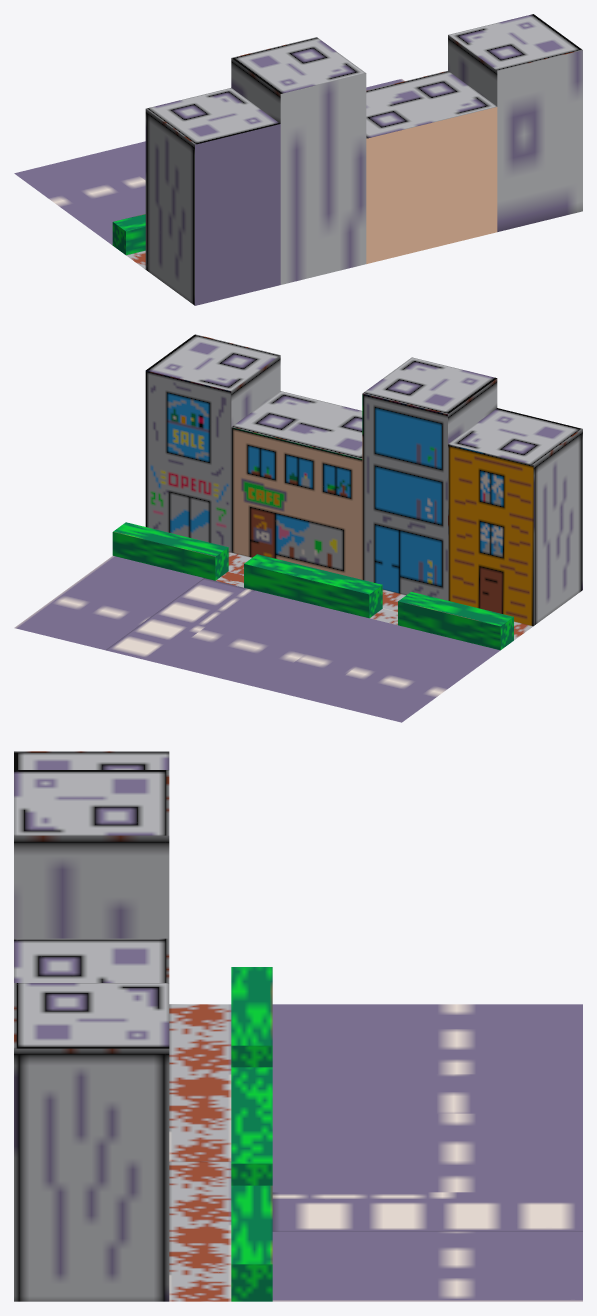
The model's file is city1.obj.
The picture shows the model from 3 angles, top to bottom: view 1: azimuth 30°, elevation 25°; view 2: azimuth 150°, elevation 25°; view 3: azimuth 270°, elevation 25°; orthographic projection. The views are drawn at different scales.
Parts seen in each view (by area): view 1: city1; view 2: city1; view 3: city1.
Part boxes in pixels (bbox=[...]): city1: bbox=[14, 14, 582, 305]; city1: bbox=[14, 334, 582, 722]; city1: bbox=[14, 751, 582, 1301].
Size of the model in its own units: 17 by 8 by 13.75.
1 material, 1 textured.
